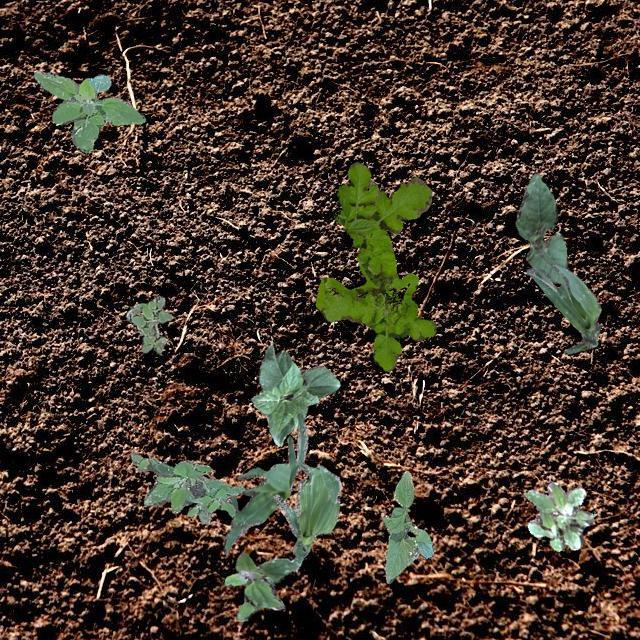crop: (222, 412, 306, 552), (250, 342, 338, 446), (526, 250, 600, 352), (272, 458, 340, 558), (515, 172, 567, 282), (382, 470, 432, 582)
weed: (314, 162, 436, 370), (32, 70, 144, 152), (130, 451, 243, 522), (223, 552, 301, 620), (524, 480, 596, 550), (126, 294, 172, 352)
